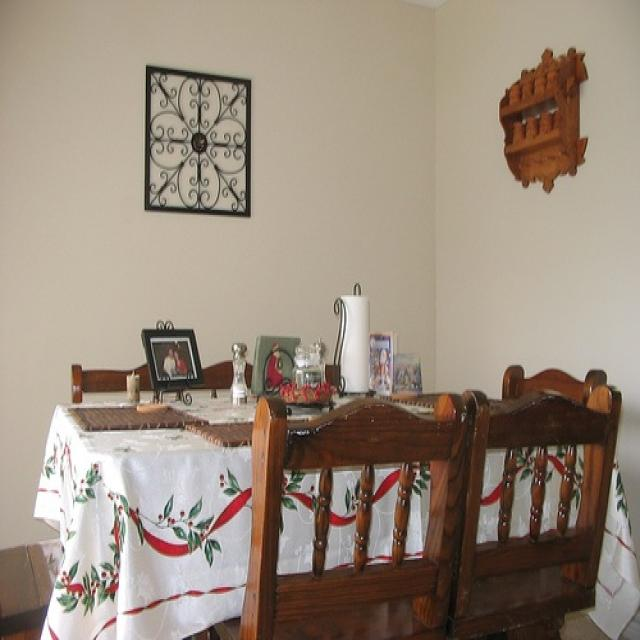chair: (214, 396, 468, 638), (450, 386, 624, 638), (500, 366, 608, 400)
diningtable: (33, 389, 639, 638)
